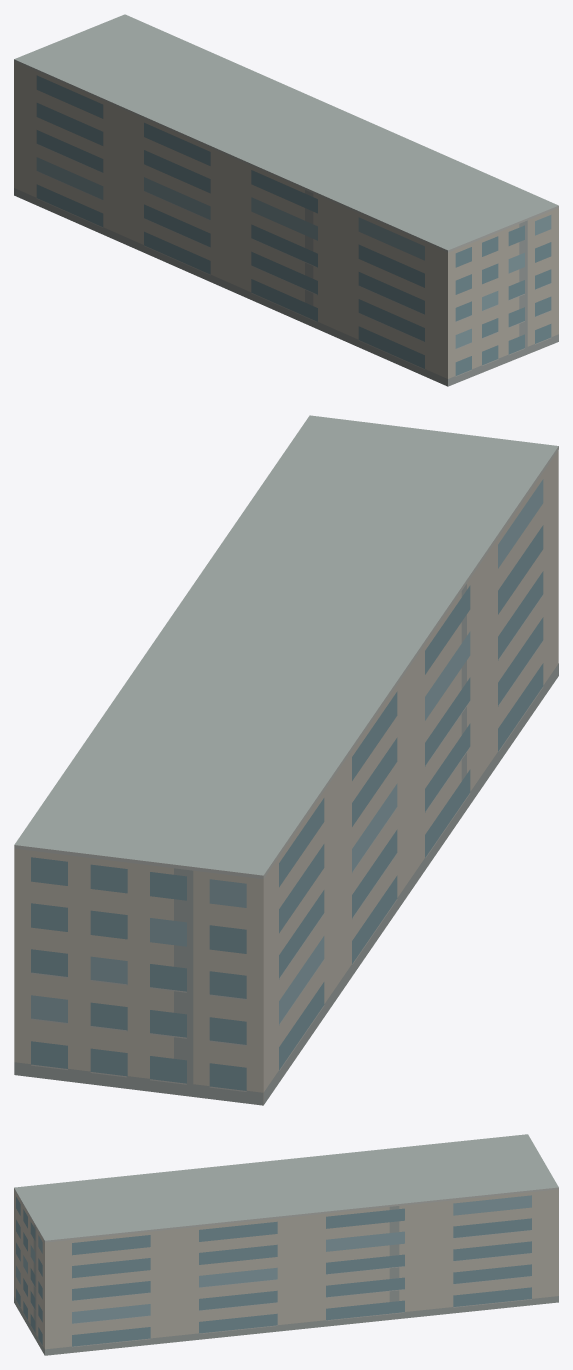
The model's file is residential-ad9bb771-f619-4465-832a-638e41238175.glb.
The picture shows the model from 3 angles, top to bottom: view 1: azimuth 30°, elevation 25°; view 2: azimuth 150°, elevation 25°; view 3: azimuth 270°, elevation 25°; orthographic projection. The views are drawn at different scales.
Visible parts, largest first — view 1: residential-ad9bb771-f619-4465-832a-638e41238175.tmp; view 2: residential-ad9bb771-f619-4465-832a-638e41238175.tmp; view 3: residential-ad9bb771-f619-4465-832a-638e41238175.tmp.
Boxes of the visible parts, x1,y1,x2,y2 form: residential-ad9bb771-f619-4465-832a-638e41238175.tmp: [14, 14, 558, 386]; residential-ad9bb771-f619-4465-832a-638e41238175.tmp: [14, 415, 558, 1105]; residential-ad9bb771-f619-4465-832a-638e41238175.tmp: [14, 1134, 558, 1355].
Bounding box in the file's own units: 30.33 × 15.25 × 65.5.
